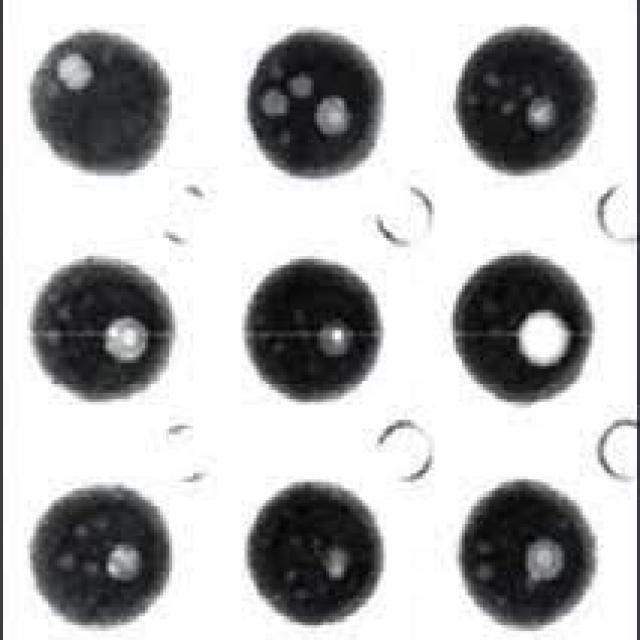chip: (454, 256, 591, 401), (33, 259, 173, 399), (457, 28, 594, 171), (461, 481, 593, 626), (246, 259, 380, 401), (248, 32, 381, 175), (31, 33, 168, 170), (31, 488, 168, 624), (249, 483, 381, 624)
void: (520, 312, 570, 363), (104, 318, 148, 363), (527, 540, 563, 583), (106, 545, 141, 581), (57, 54, 91, 90), (316, 98, 349, 135), (319, 326, 352, 355), (528, 96, 555, 130), (323, 548, 347, 578), (261, 89, 287, 116), (289, 72, 312, 96)
